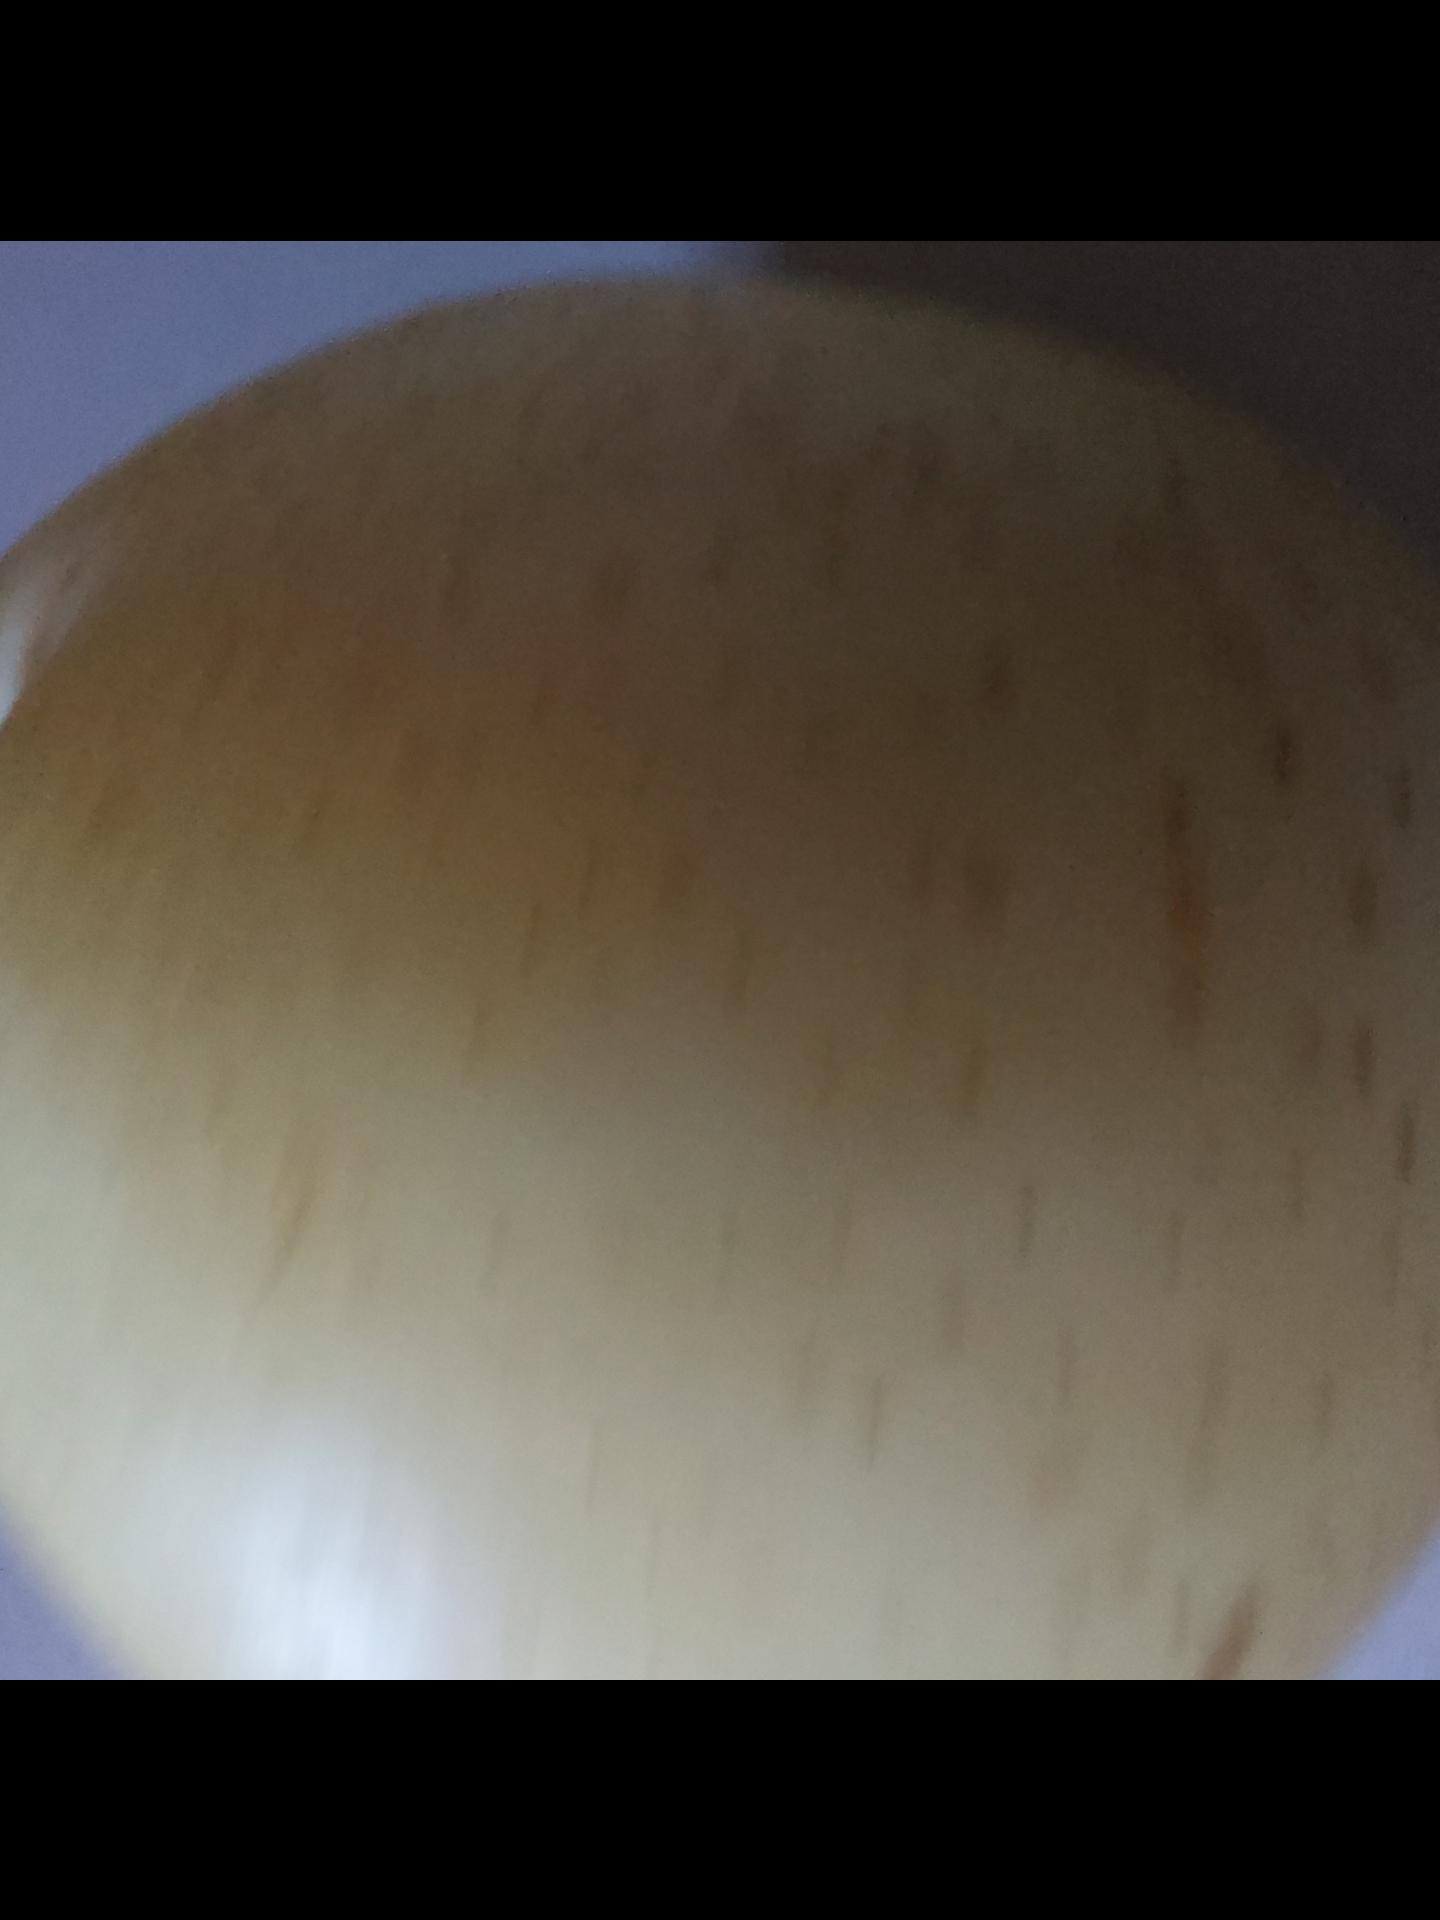Good Pear: (0, 290, 1440, 1680)
